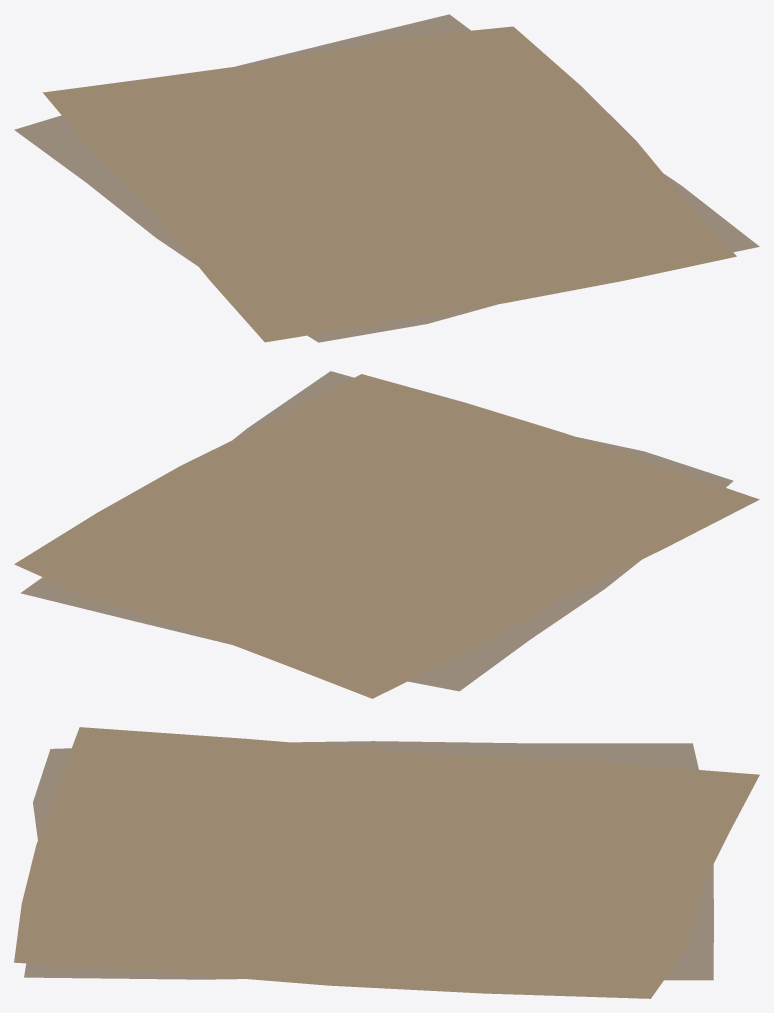
Rendered from notas.fbx.
3 views of the same model, one above another, from view 1: azimuth 30°, elevation 25°; view 2: azimuth 150°, elevation 25°; view 3: azimuth 270°, elevation 25° (orthographic). The views are drawn at different scales.
Parts seen in each view (by area): view 1: Cube; view 2: Cube; view 3: Cube.
Part boxes in pixels (left/top/right/bottom): Cube: left=14, top=14, right=759, bottom=342; Cube: left=14, top=371, right=759, bottom=698; Cube: left=14, top=727, right=759, bottom=998.
Size of the model in its own units: 140 by 0.0757 by 163.
